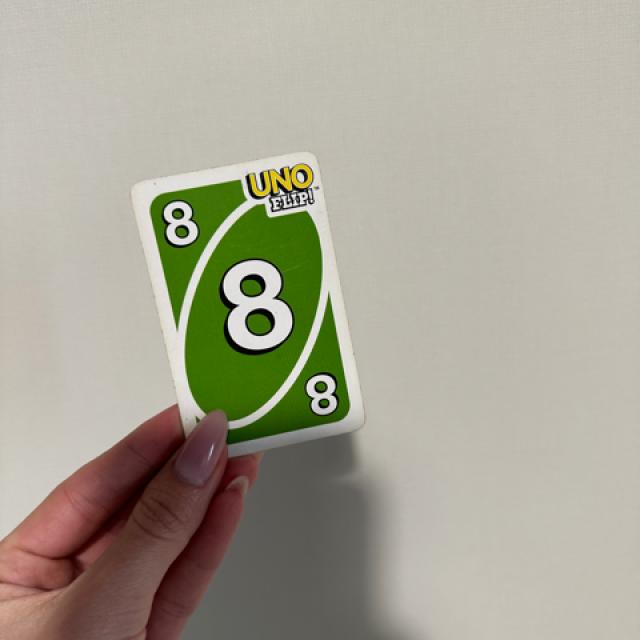lgreen-8: (150, 185, 218, 259)
